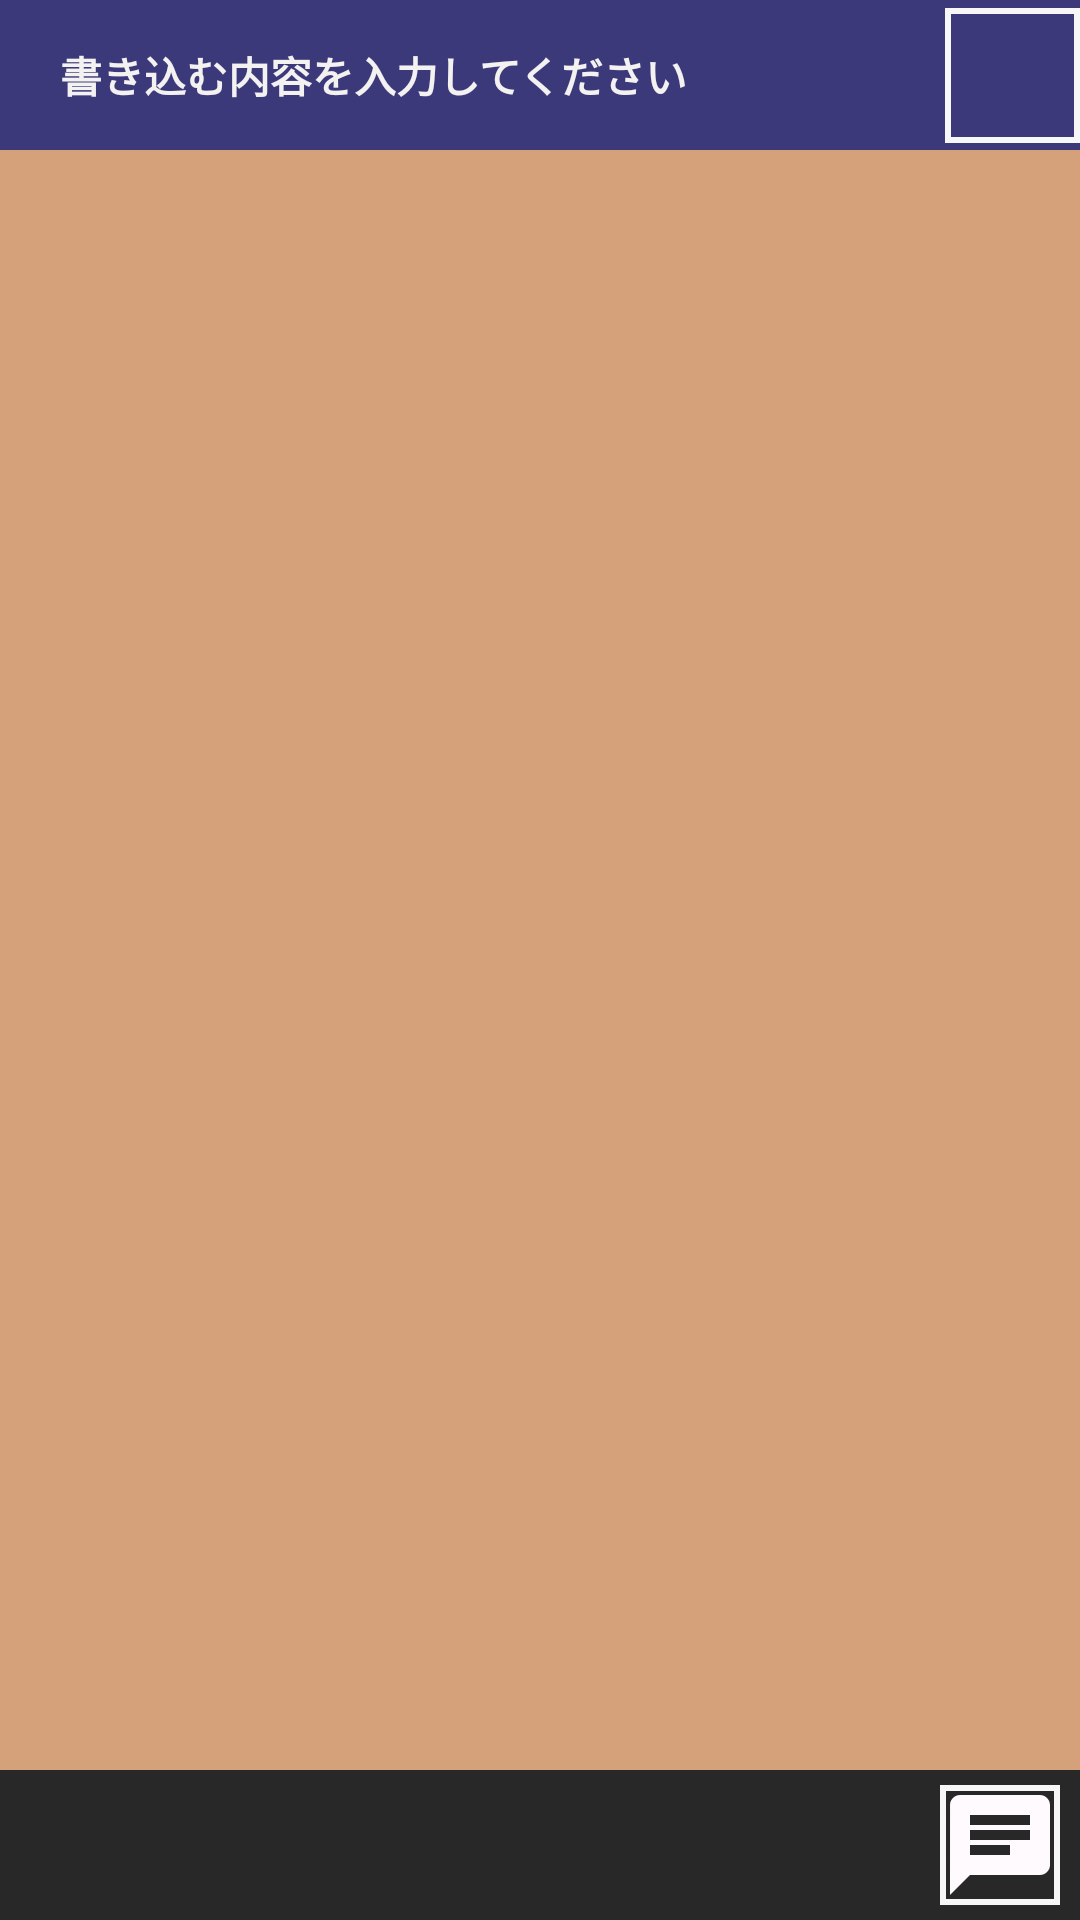

Named icons in this screenshot (1080*1920) and their bounding boxes, (x1, y1, x2, y2):
chatroom: (940, 1785, 1060, 1905)
